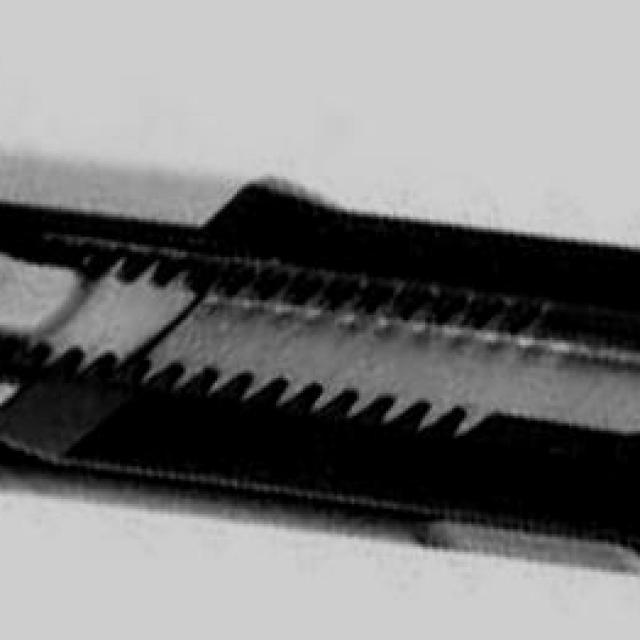estilete: (0, 150, 640, 578)
